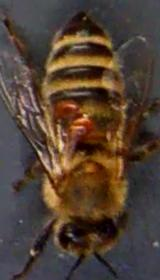varroa_mite: (54, 92, 84, 120), (65, 112, 93, 140)
